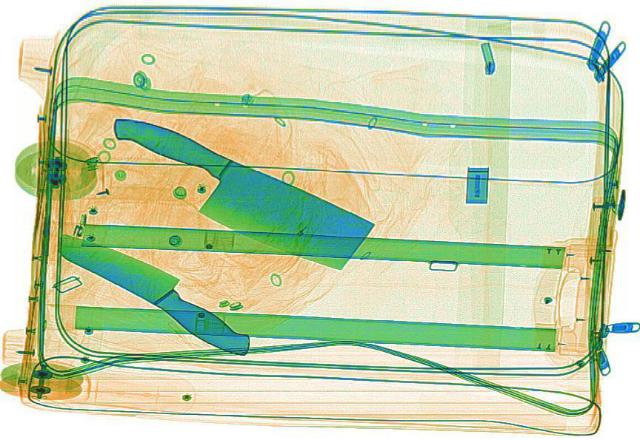Knife: (72, 98, 392, 280), (41, 216, 277, 359)
